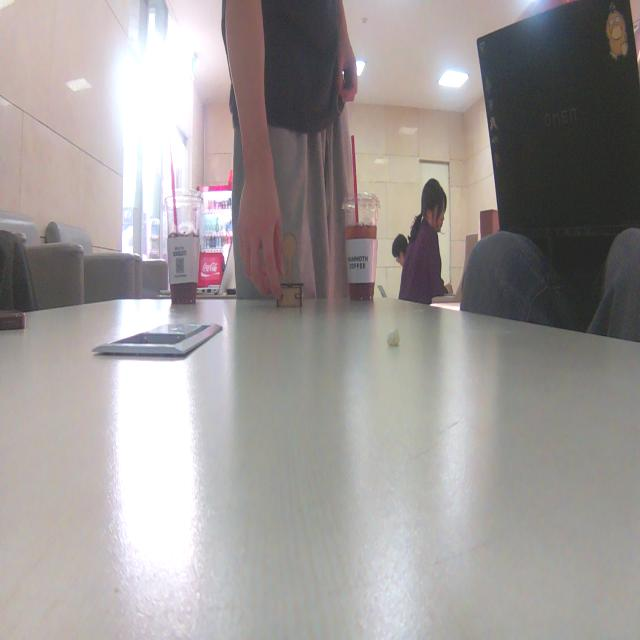target: (276, 232, 302, 308)
